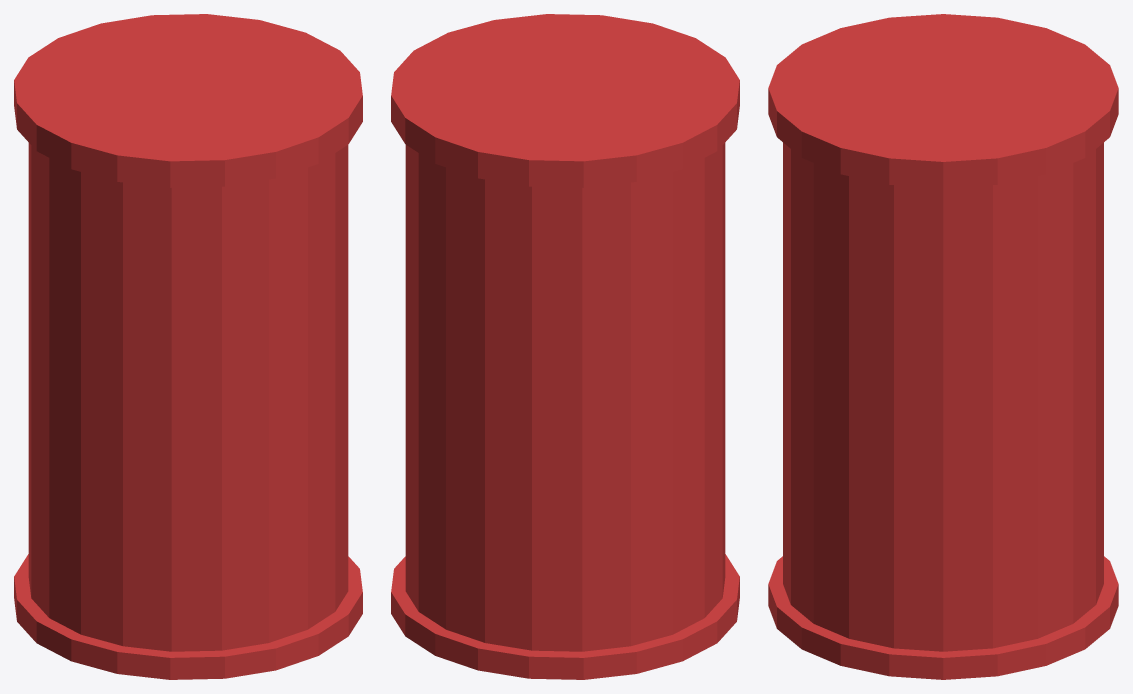
File: g_cola_can.glb
3 renders of one model, left to right at view 1: azimuth 30°, elevation 25°; view 2: azimuth 150°, elevation 25°; view 3: azimuth 270°, elevation 25°, orthographic.
Visible parts, largest first — view 1: g_cola_can; view 2: g_cola_can; view 3: g_cola_can.
Part boxes in pixels (x1=…): g_cola_can: x1=14, y1=14, x2=362, y2=679; g_cola_can: x1=391, y1=14, x2=739, y2=679; g_cola_can: x1=768, y1=14, x2=1118, y2=679.
Size of the model in its own units: 0.072 by 0.118 by 0.072.
